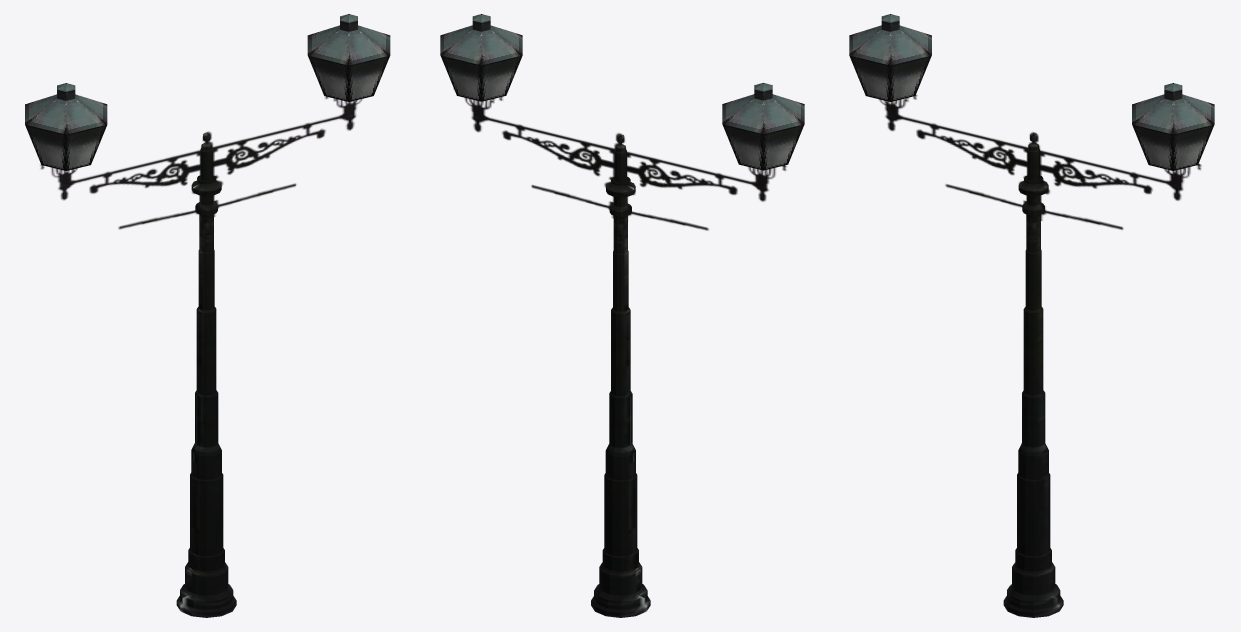
File: euroB_03.glb
The picture shows the model from 3 angles, left to right: view 1: azimuth 30°, elevation 25°; view 2: azimuth 150°, elevation 25°; view 3: azimuth 330°, elevation 25°; orthographic projection.
Parts seen in each view (by area): view 1: geometry_0, geometry_35, geometry_24; view 2: geometry_0, geometry_35, geometry_24; view 3: geometry_0, geometry_35, geometry_24.
Part boxes in pixels (left/top/right/bottom): geometry_0: left=40, top=14, right=362, bottom=617; geometry_35: left=25, top=25, right=390, bottom=134; geometry_24: left=25, top=55, right=389, bottom=170; geometry_0: left=464, top=14, right=786, bottom=617; geometry_35: left=440, top=25, right=804, bottom=134; geometry_24: left=440, top=55, right=804, bottom=170; geometry_0: left=879, top=14, right=1201, bottom=617; geometry_35: left=849, top=25, right=1214, bottom=134; geometry_24: left=849, top=55, right=1214, bottom=170.
Bounding box in the file's own units: 3.48 × 4.81 × 0.6456.
4 materials, 4 textured.
